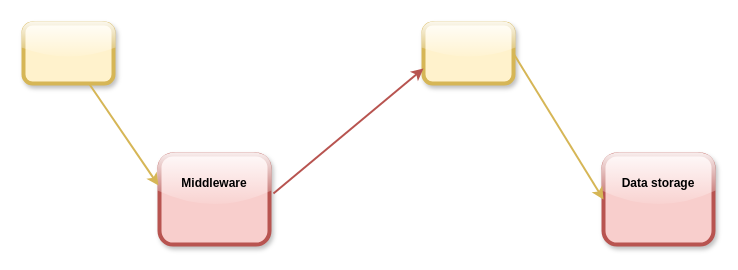
Some shapes in this 738 by 270 pixel diagram are drawn without their labels. The centre of each missing label's shape, as x and y in pixels:
Consumer: pixel 469 54
Producer: pixel 69 54
